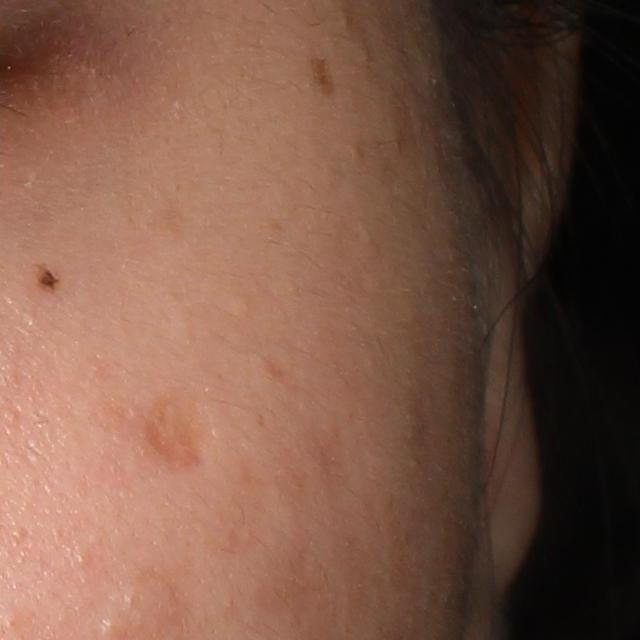comedo: (99, 614, 119, 638)
melasma: (140, 390, 202, 477), (309, 52, 334, 102)
nevus: (36, 259, 59, 293)
